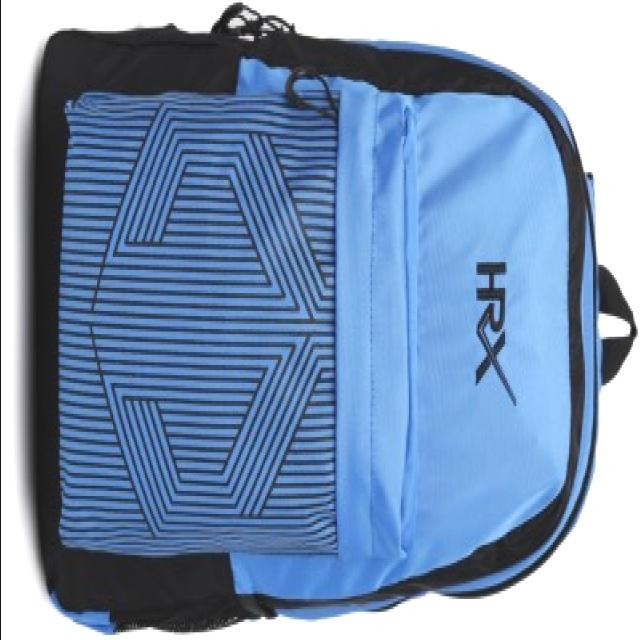backpack: (35, 4, 640, 636)
